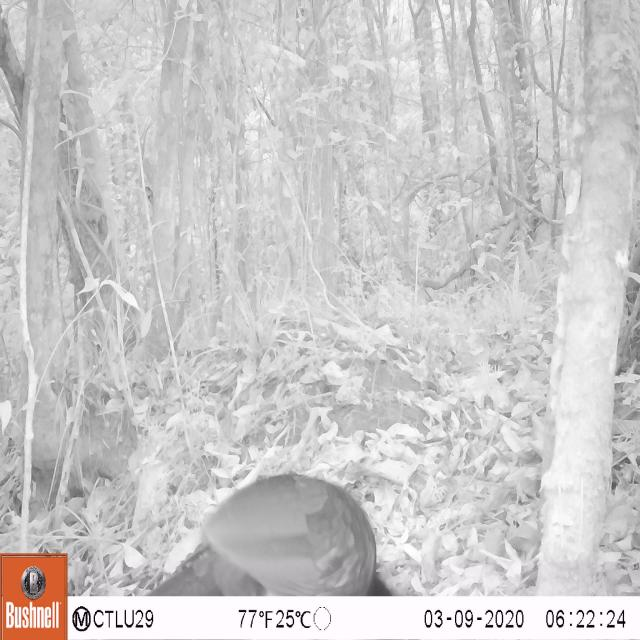Salvins Curassow: (139, 444, 397, 596)
